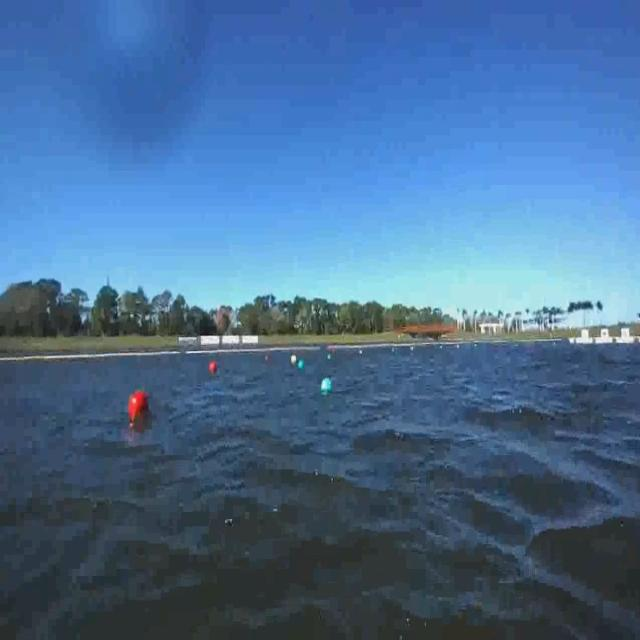green-buoy: (323, 374, 336, 394), (297, 359, 303, 371)
red-buoy: (130, 392, 154, 424), (209, 360, 218, 374)
